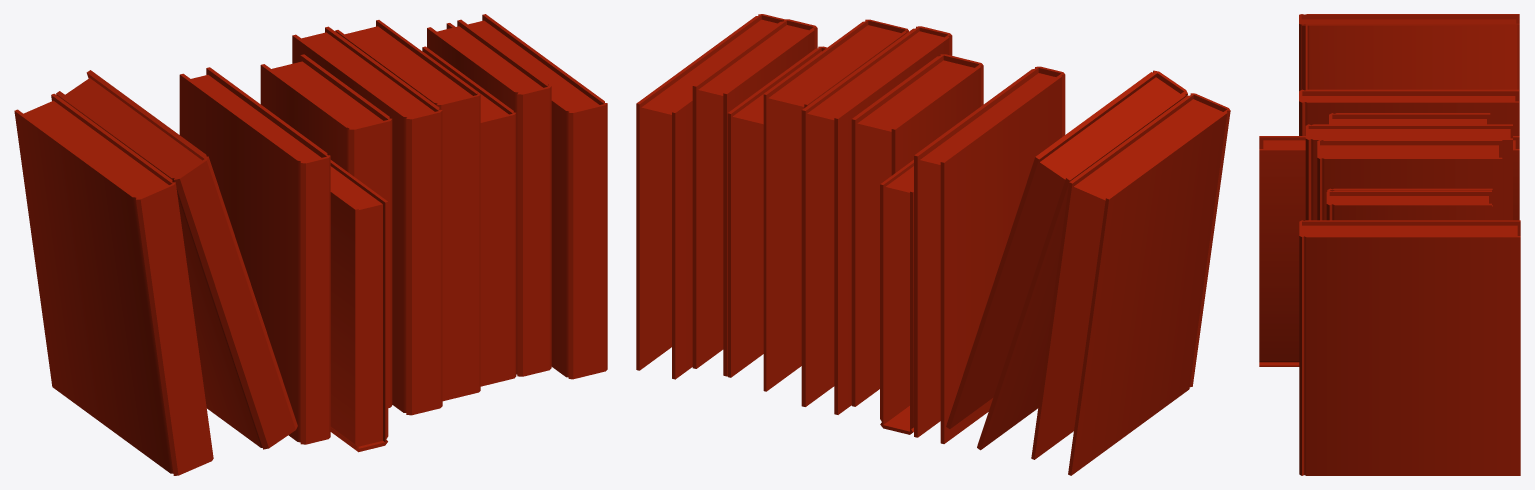
Rendered from HalloweenRoomA_BooksF.fbx.
3 views of the same model, side by side, from view 1: azimuth 30°, elevation 25°; view 2: azimuth 150°, elevation 25°; view 3: azimuth 270°, elevation 25° (orthographic). The views are drawn at different scales.
Parts seen in each view (by area): view 1: HalloweenRoomA_BooksF; view 2: HalloweenRoomA_BooksF; view 3: HalloweenRoomA_BooksF.
Boxes of the visible parts, <box> form: HalloweenRoomA_BooksF: <box>14,14,607,475</box>; HalloweenRoomA_BooksF: <box>636,14,1230,475</box>; HalloweenRoomA_BooksF: <box>1259,14,1520,475</box>.
Size of the model in its own units: 43.64 by 27.3 by 23.34.
